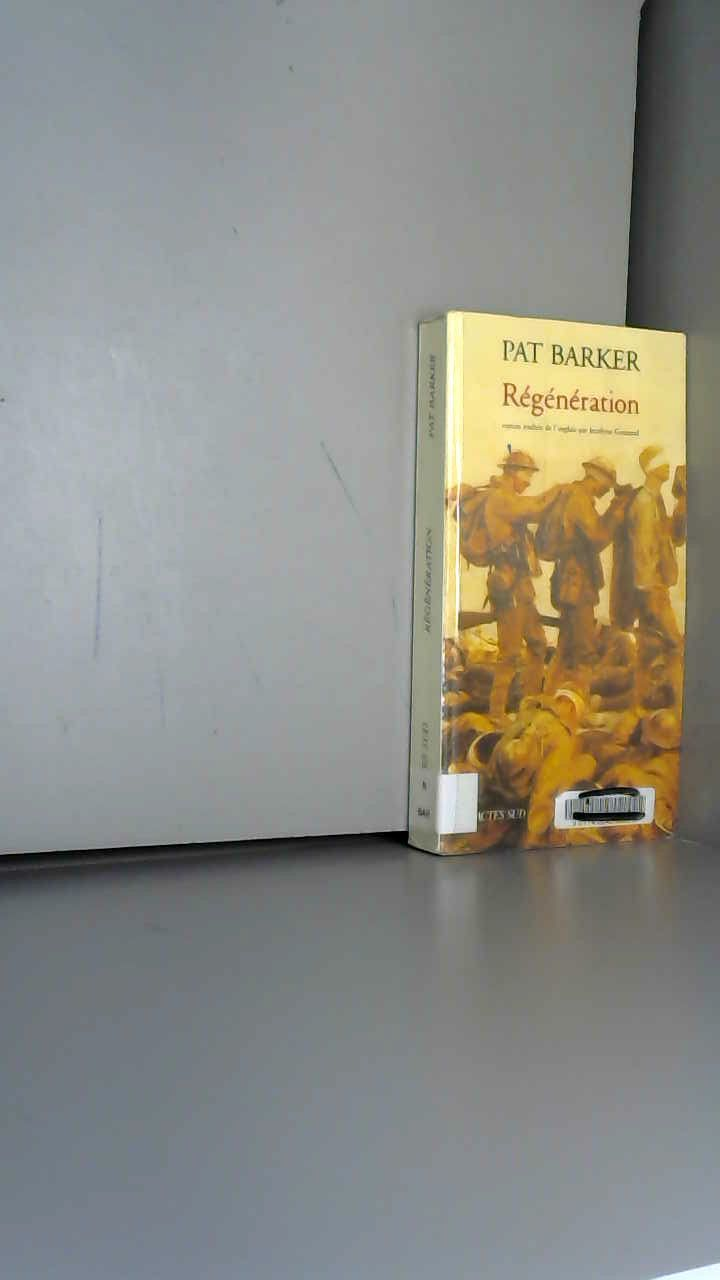book: (410, 290, 715, 899)
